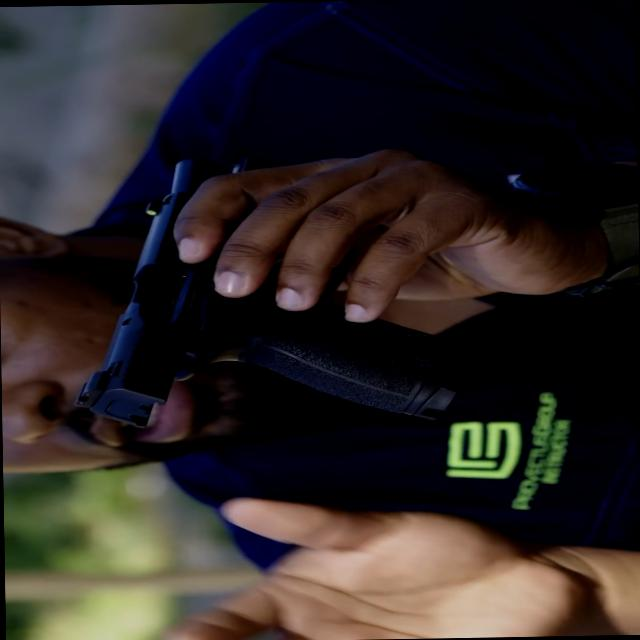handgun: (75, 152, 469, 434)
